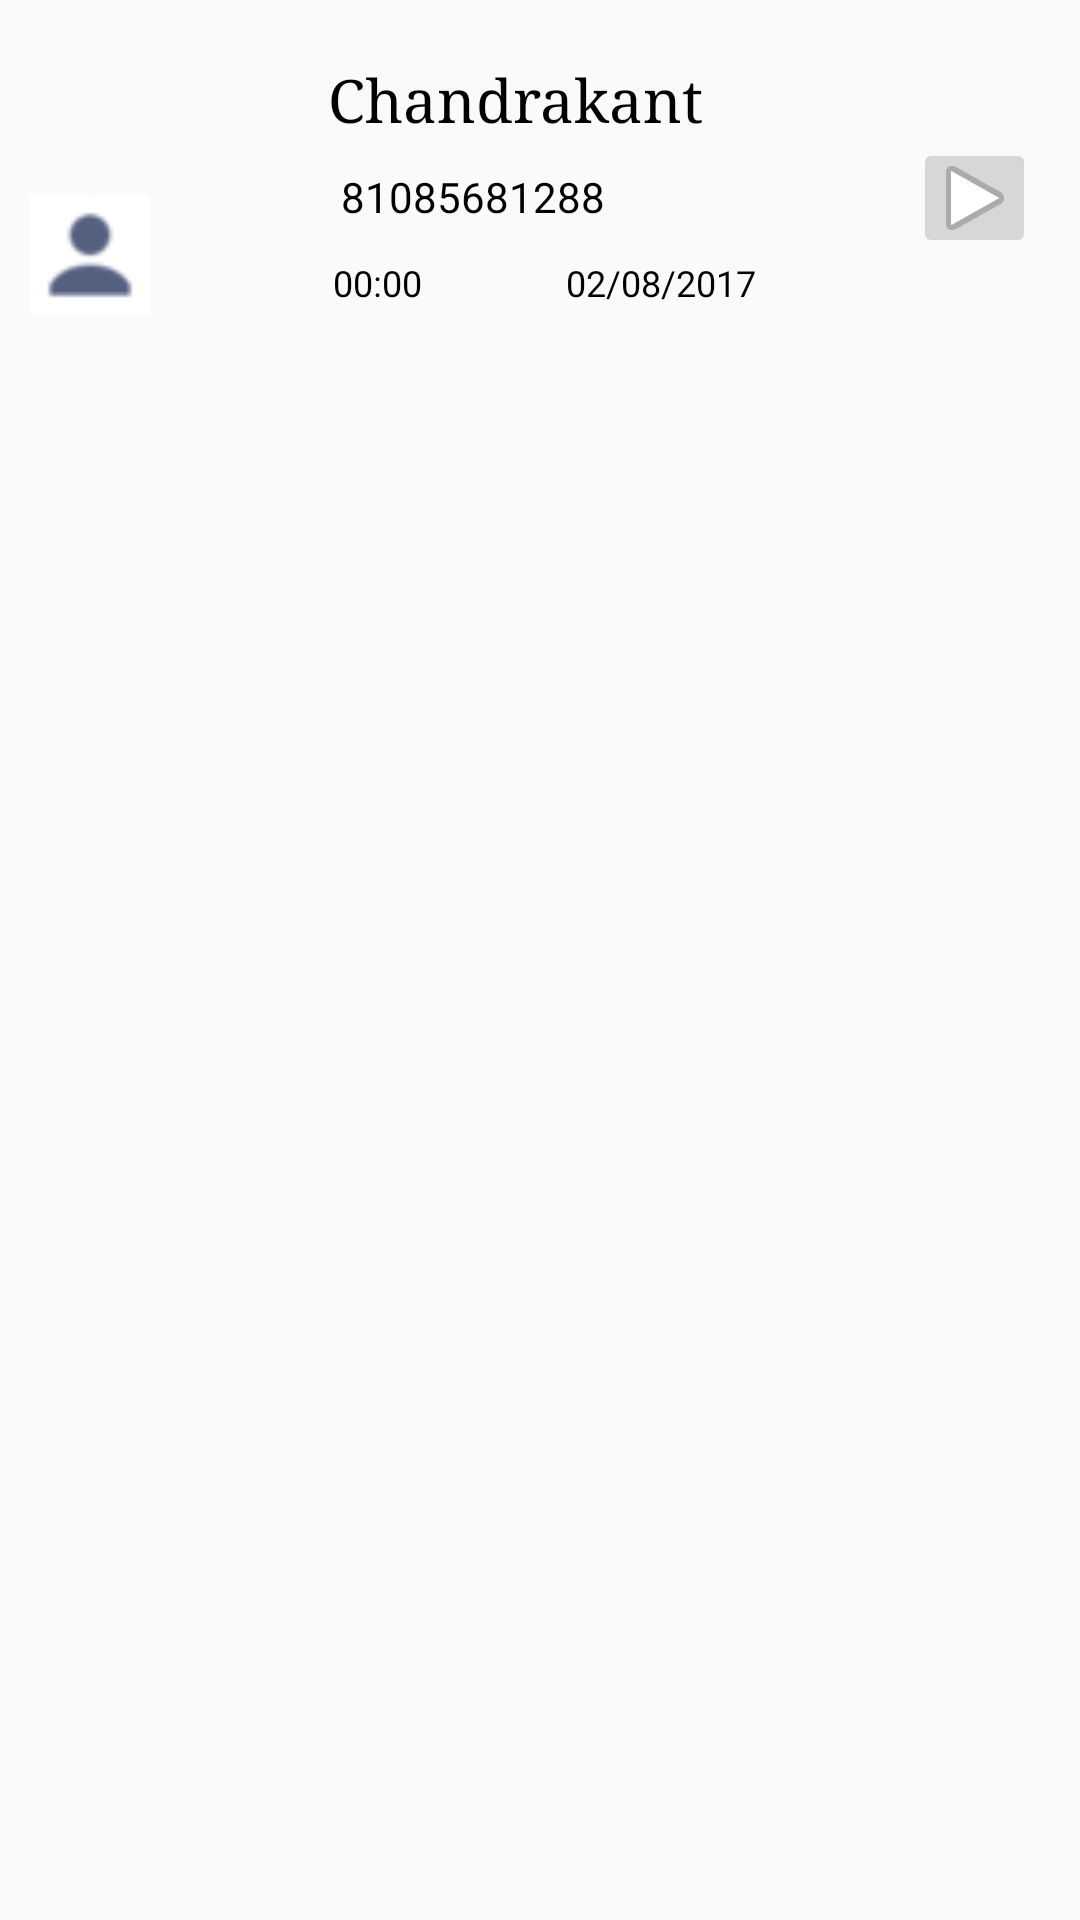

Icon bounding boxes for this 1080 x 1920 phone screenshot, format (x1, y1, x2, y2):
play: (925, 156, 1024, 240)
user: (48, 213, 132, 297)
